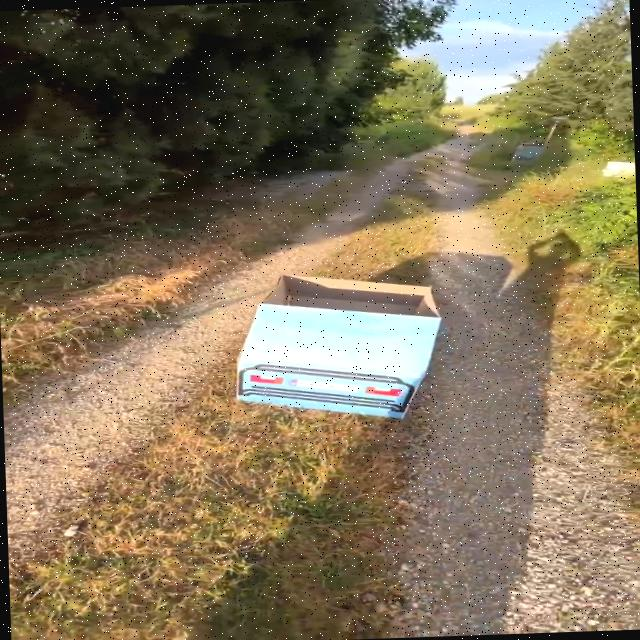blue_car: (175, 238, 483, 455)
